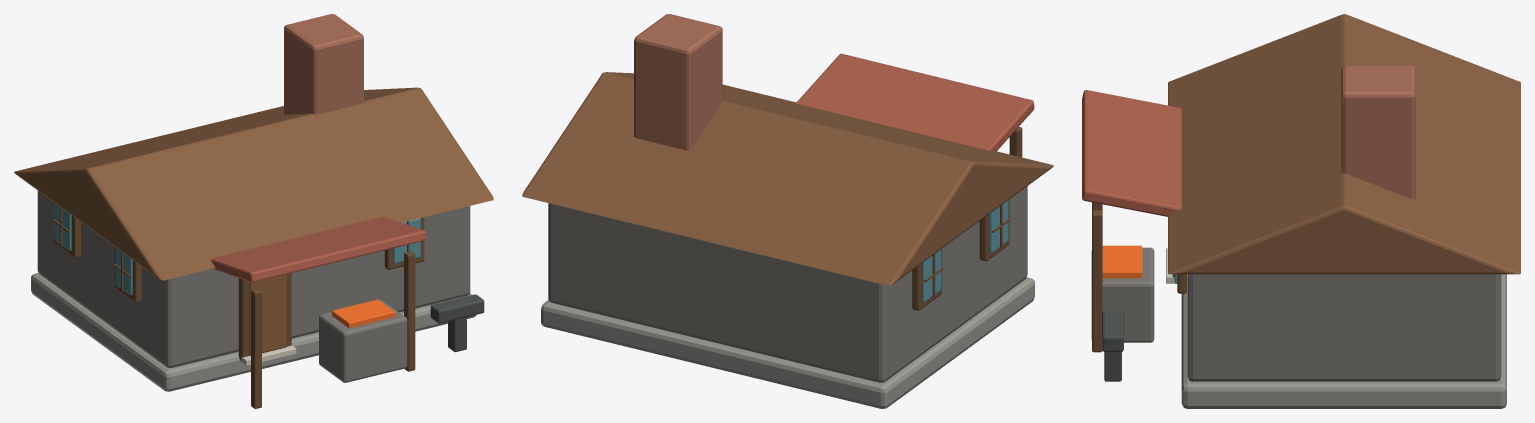
Rendered from temperate-smithy-0.glb.
3 renders of one model, left to right at view 1: azimuth 30°, elevation 25°; view 2: azimuth 150°, elevation 25°; view 3: azimuth 270°, elevation 25°, orthographic. The views are drawn at different scales.
Parts seen in each view (by area): view 1: Wood shingles, Soot stone, Chimney brick, Foundation stone, Clay tiles, Dark beams, Door oak, Forged iron, Blue glass, Forge ember; view 2: Wood shingles, Soot stone, Foundation stone, Clay tiles, Chimney brick, Dark beams, Blue glass; view 3: Wood shingles, Soot stone, Clay tiles, Foundation stone, Chimney brick, Dark beams, Forged iron, Forge ember.
Part boxes in pixels (x1,y1,x2,y2): Wood shingles: (14, 87, 493, 280); Soot stone: (37, 190, 470, 382); Chimney brick: (284, 14, 363, 114); Foundation stone: (31, 273, 476, 391); Clay tiles: (211, 216, 426, 282); Dark beams: (52, 202, 424, 408); Door oak: (249, 274, 286, 355); Forged iron: (430, 294, 484, 352); Blue glass: (54, 203, 420, 295); Forge ember: (332, 299, 395, 328); Wood shingles: (522, 72, 1053, 285); Soot stone: (548, 186, 1027, 382); Foundation stone: (541, 277, 1034, 408); Clay tiles: (796, 53, 1034, 151); Chimney brick: (634, 14, 722, 150); Dark beams: (912, 127, 1022, 310); Blue glass: (922, 200, 1008, 302); Wood shingles: (1168, 14, 1520, 274); Soot stone: (1091, 247, 1501, 381); Clay tiles: (1082, 90, 1181, 216); Foundation stone: (1181, 274, 1506, 408); Chimney brick: (1341, 65, 1415, 199); Dark beams: (1092, 202, 1186, 352); Forged iron: (1102, 311, 1123, 381); Forge ember: (1102, 245, 1142, 278).
Bounding box in the file's own units: 4.69 × 3.28 × 4.48.
